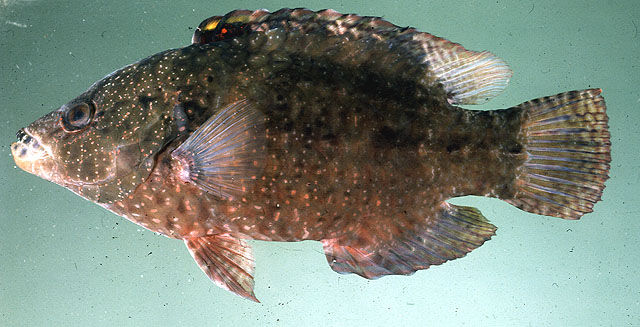fish: (11, 7, 611, 302)
